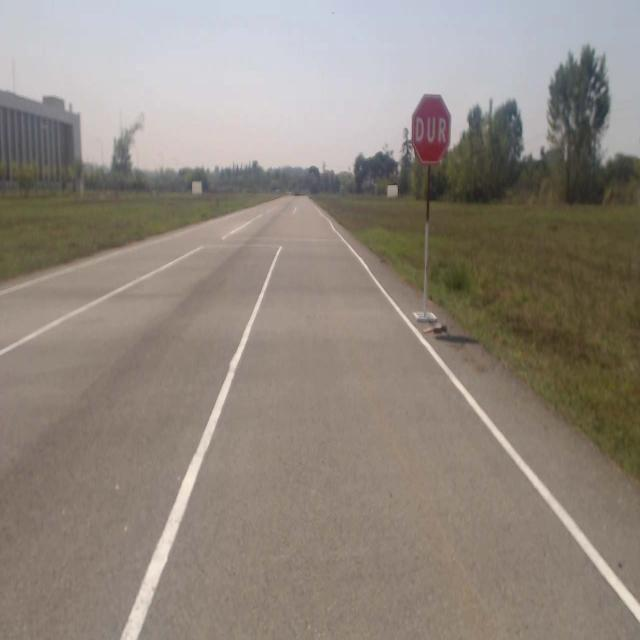dur: (409, 94, 453, 166)
